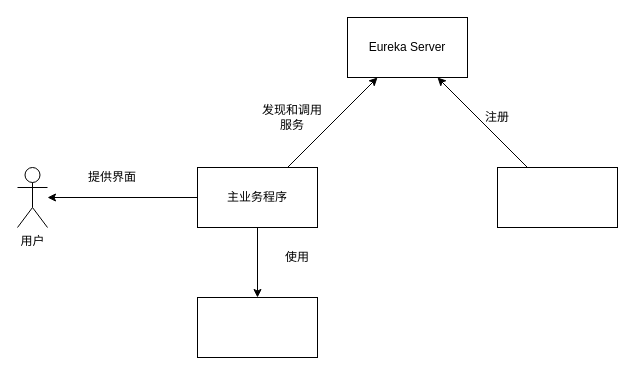
The diagram is 635 pixels wide and 375 high, and some of its shapes have lost their labels. Here are the shapes that lost their labels. From the top down, the centre of each, then its label:
At point (557, 197): "分组算法".
At point (257, 327): "数据库".
